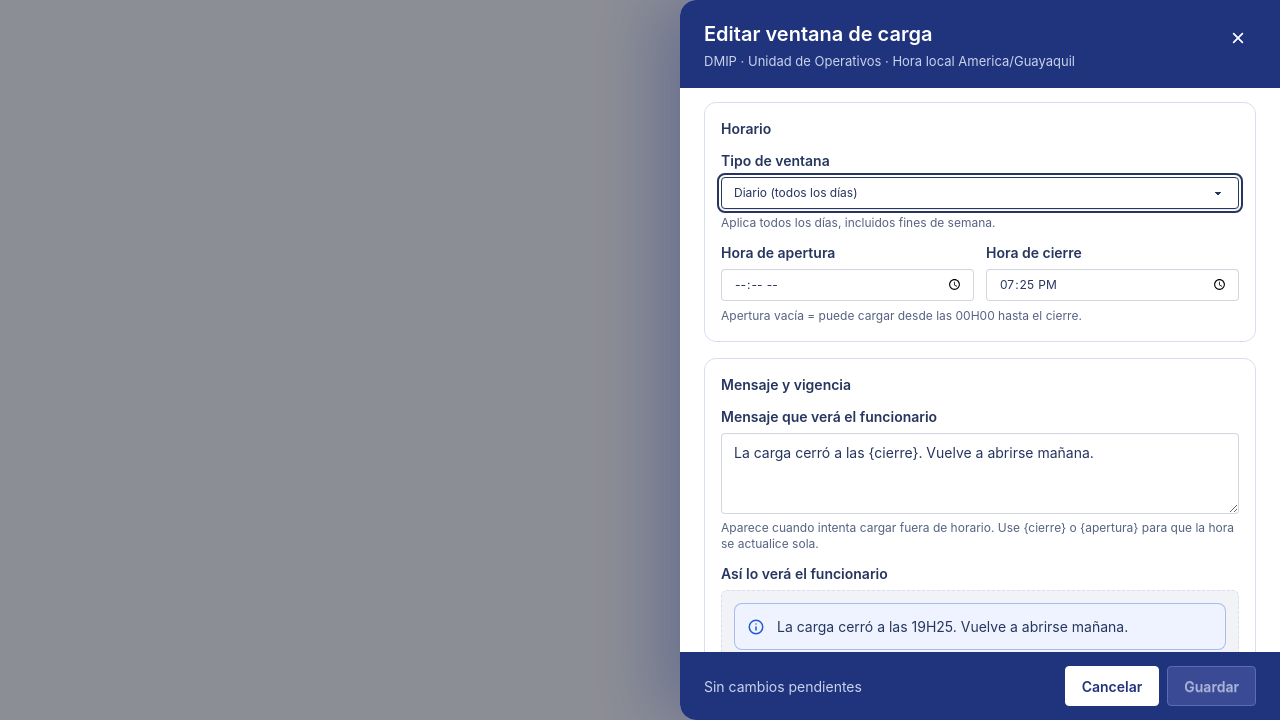
Test: «Editar ventana de carga» · apertura y cierre › con cambios, el clic en el fondo también pregunta
This screenshot has width=1280, height=720.
Replace the text in the time field labelled "Hora de cierre" with "18:00" at (1112, 284), box [986,268,1239,300]
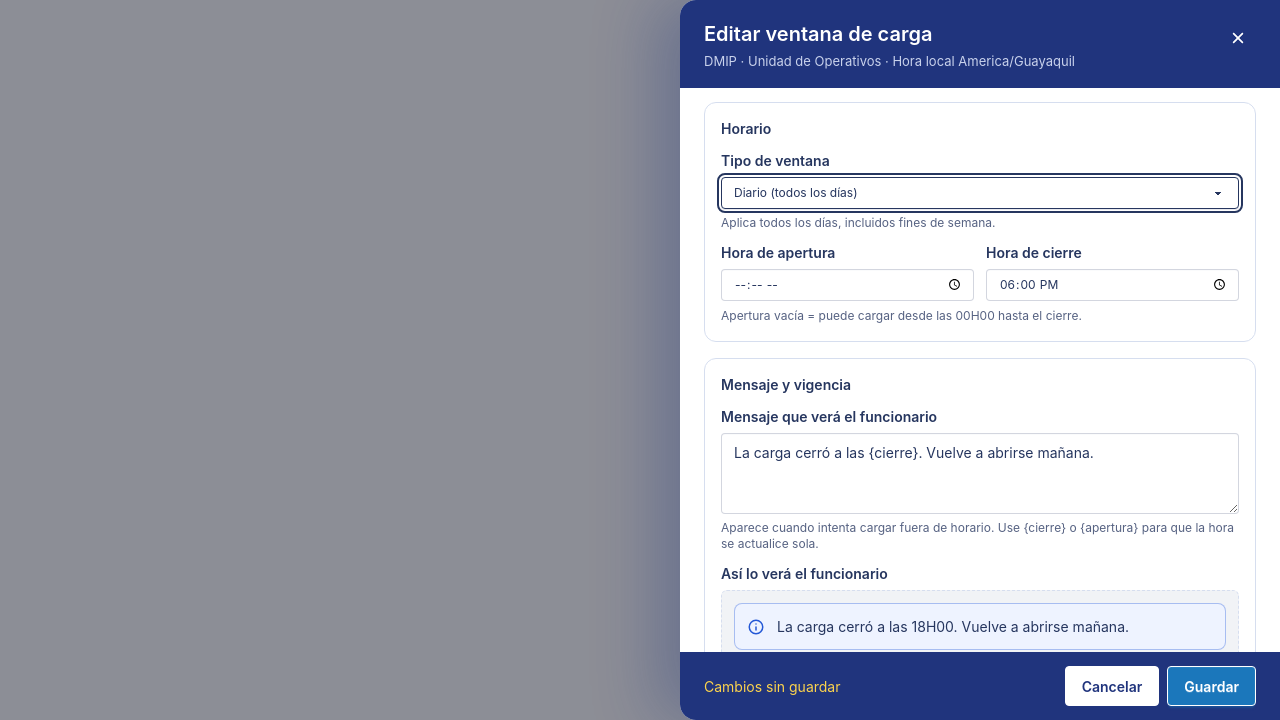
Click the 1st button named "Cerrar" at (640, 360), box [0,0,1279,719]
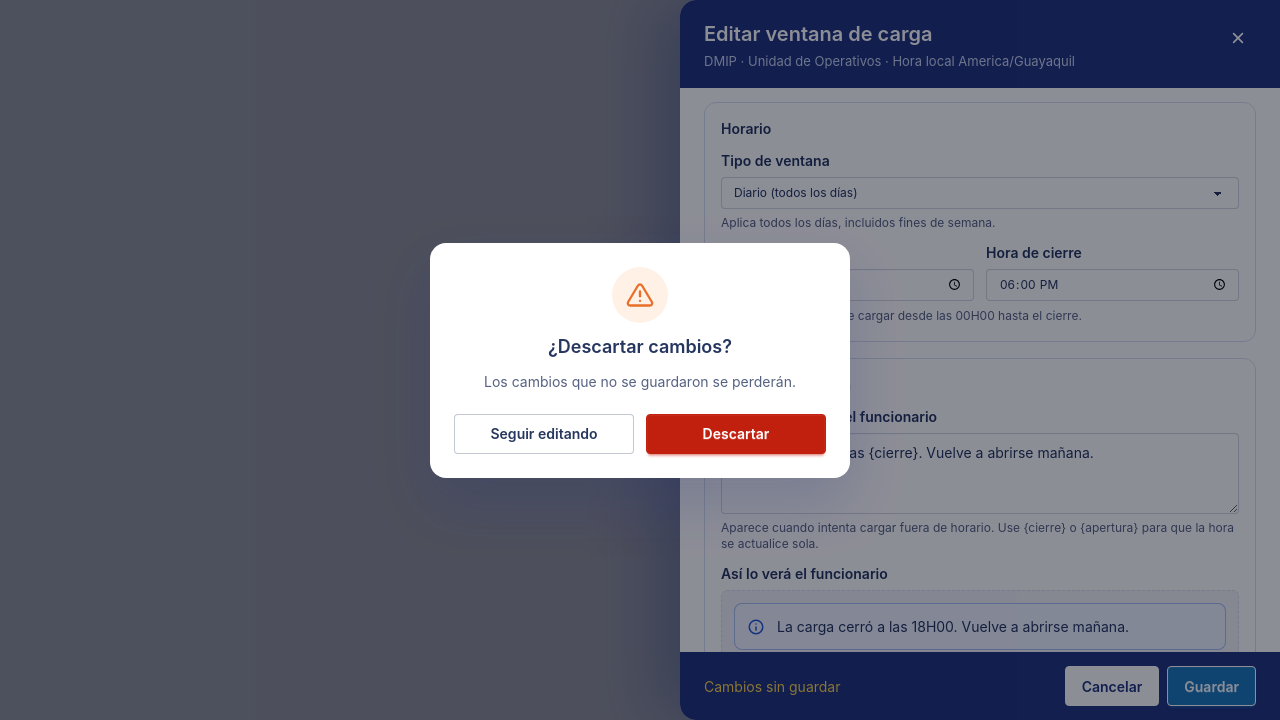
Check: the heading "¿Descartar cambios?" is shown, box [548,332,732,360]
